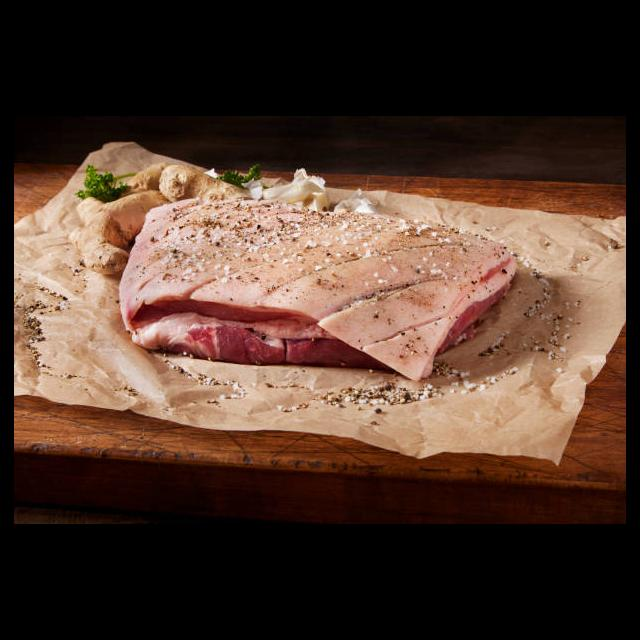pork: (122, 275, 442, 369)
